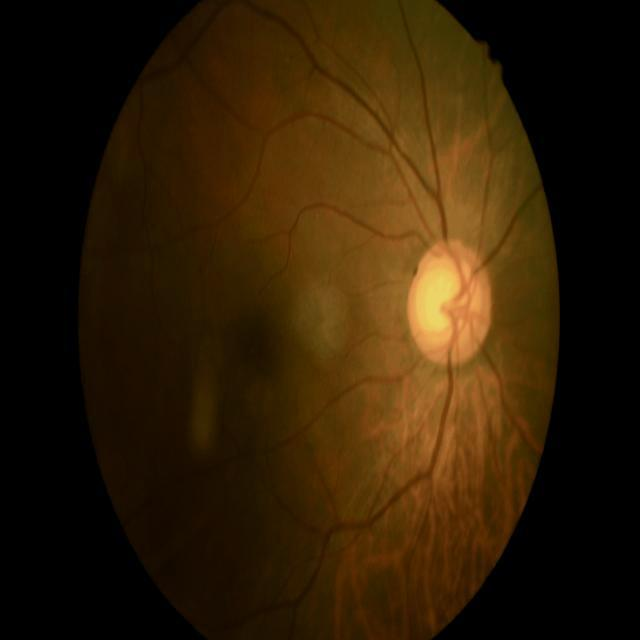cup: (418, 256, 474, 345)
disk: (408, 236, 492, 368)
